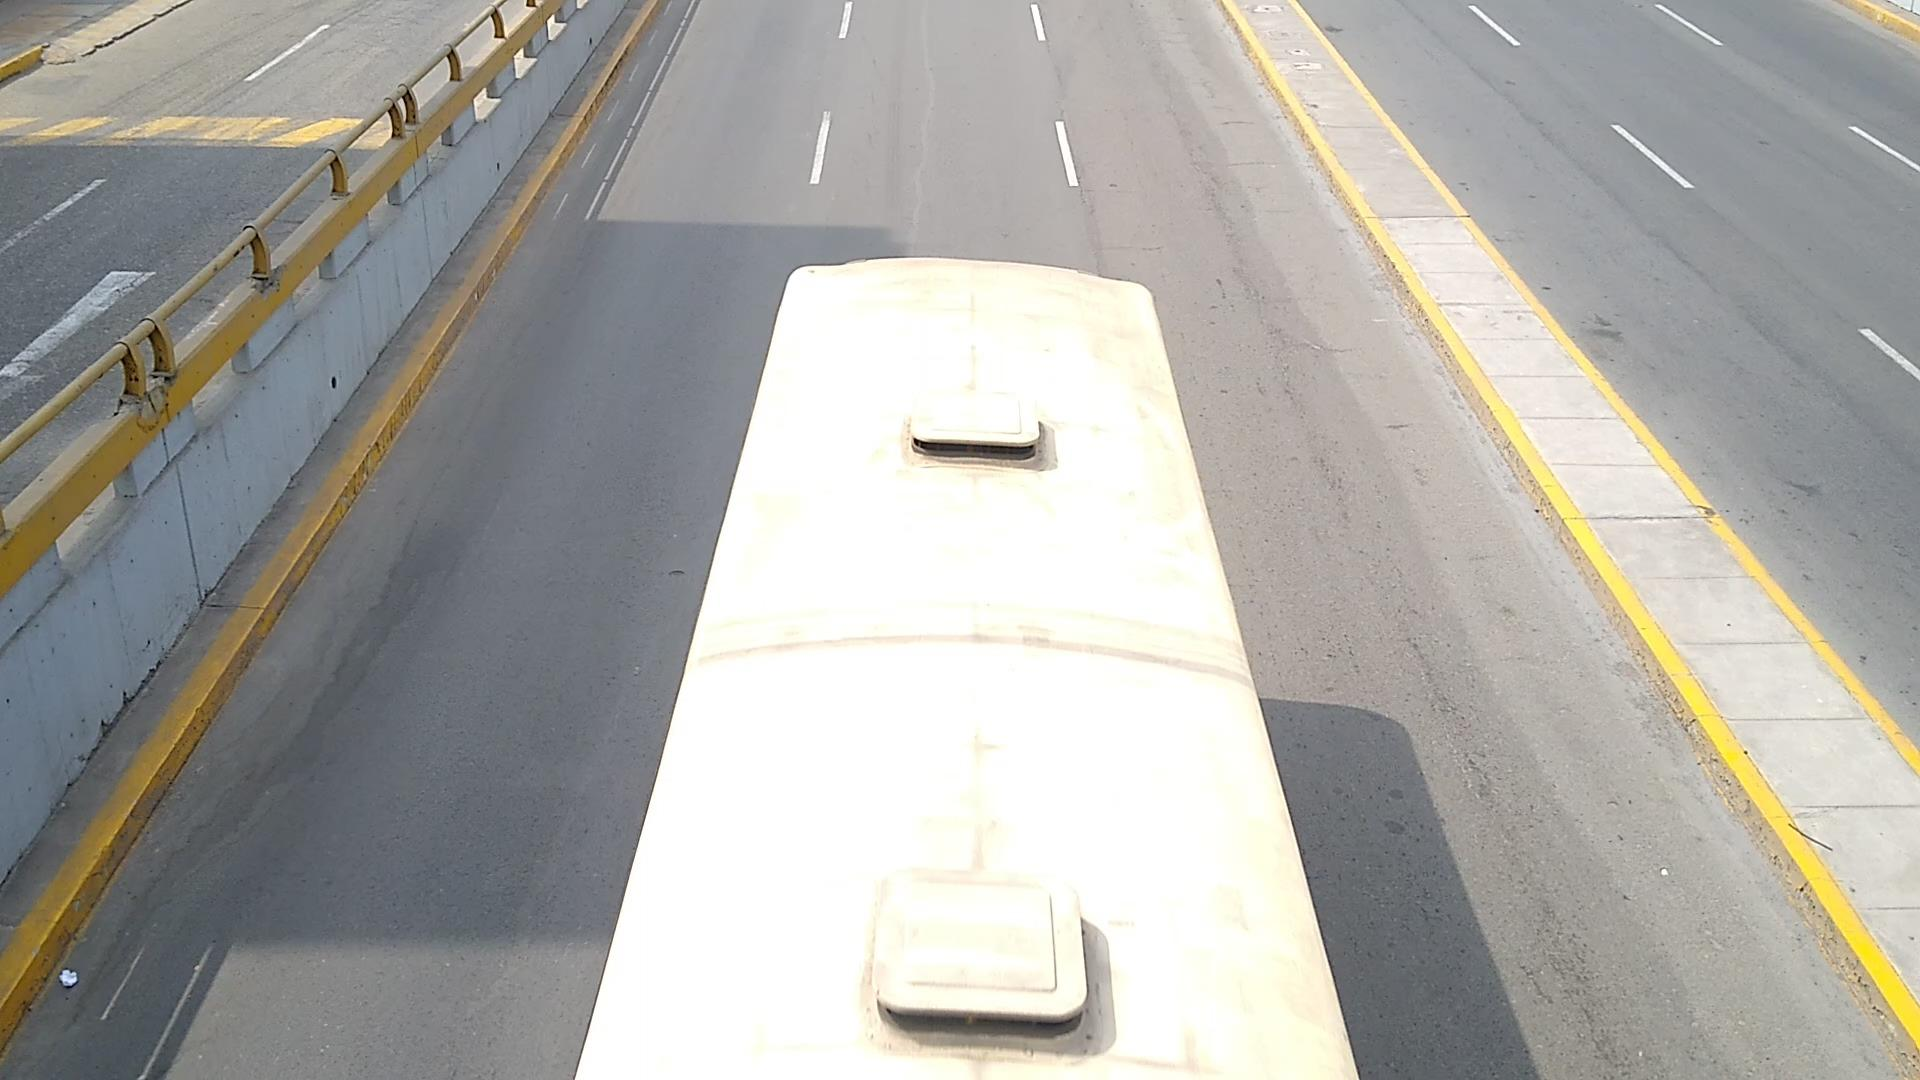car: (0, 0, 488, 433)
